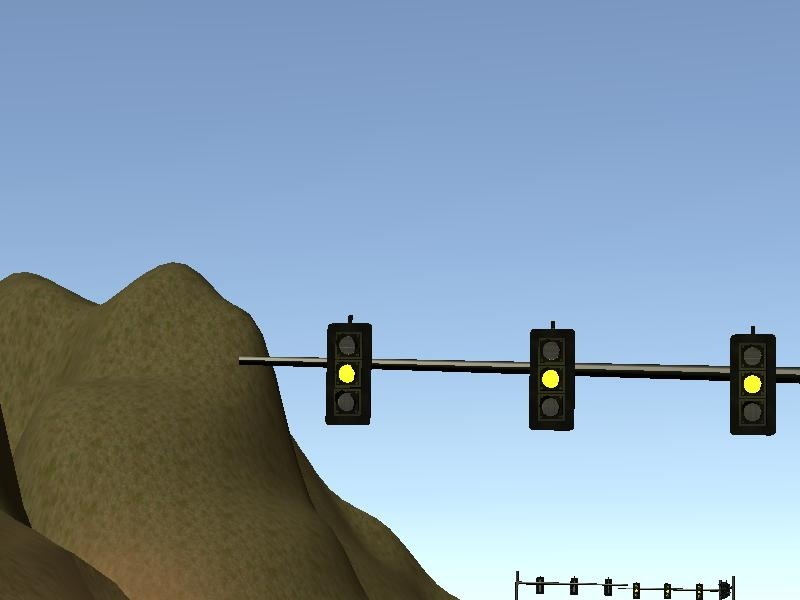YELLOW: (726, 332, 779, 439), (522, 325, 575, 432), (320, 319, 373, 426)
